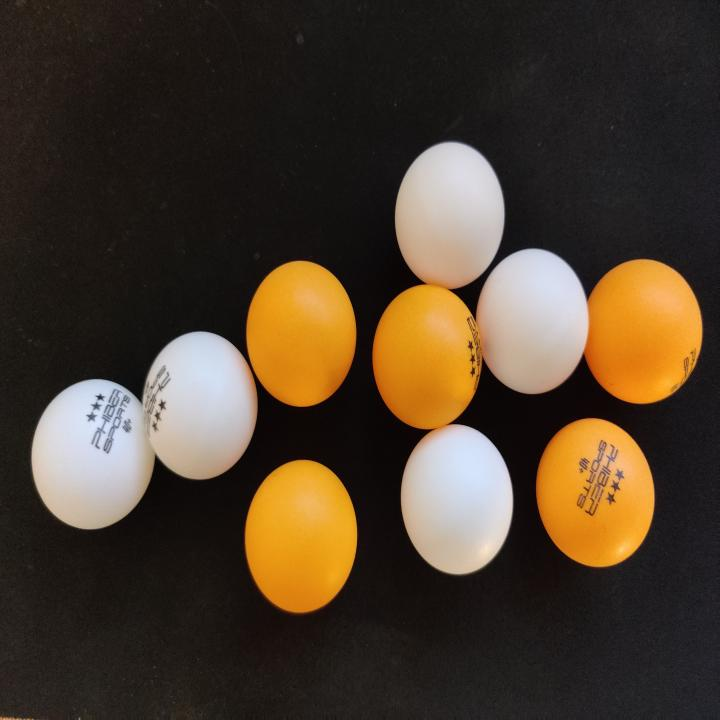orange: (534, 417, 656, 569), (581, 257, 704, 406), (244, 458, 359, 616), (245, 258, 358, 408), (371, 283, 483, 430)
white: (30, 376, 156, 532), (400, 422, 515, 578), (142, 329, 259, 481), (474, 247, 590, 397), (395, 140, 505, 291)
